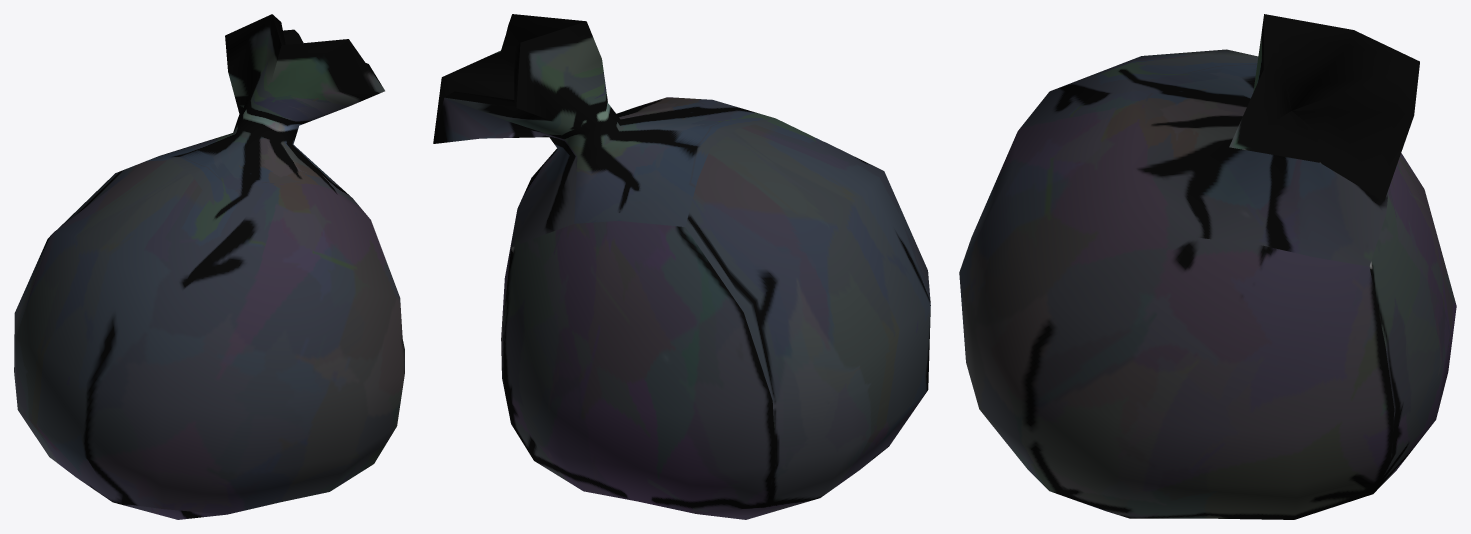
File: TrashBag_M.glb
3 renders of one model, left to right at view 1: azimuth 30°, elevation 25°; view 2: azimuth 150°, elevation 25°; view 3: azimuth 270°, elevation 25°, orthographic. The views are drawn at different scales.
Visible parts, largest first — view 1: TrashBagM; view 2: TrashBagM; view 3: TrashBagM.
Part boxes in pixels (<box>): TrashBagM: <box>14,14,404,519</box>; TrashBagM: <box>433,14,930,519</box>; TrashBagM: <box>959,14,1456,519</box>.
Bounding box in the file's own units: 1.05 × 1.08 × 0.9468.
1 material, 1 textured.
